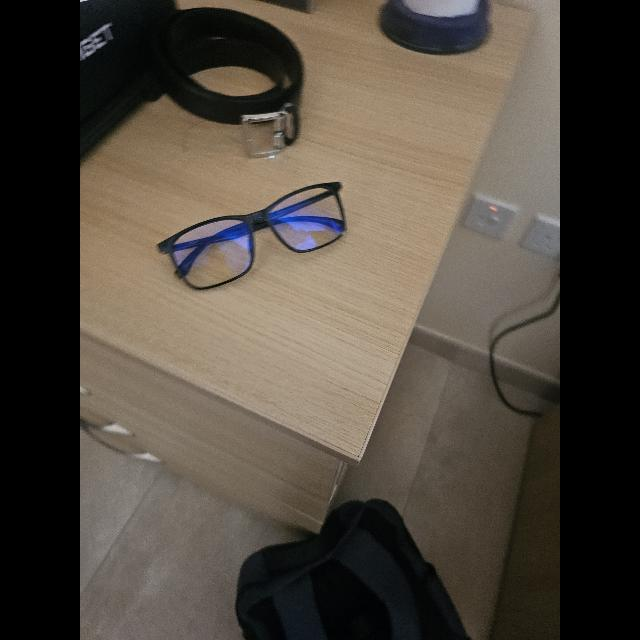glasses: (158, 182, 346, 290)
